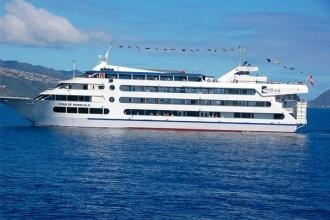yacht: (1, 41, 314, 134)
